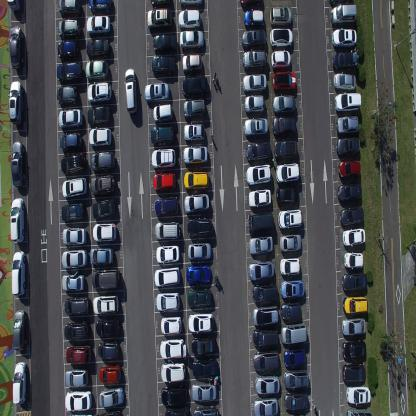car: (8, 79, 23, 127), (10, 195, 24, 244), (124, 66, 138, 114), (12, 361, 27, 405), (11, 249, 25, 296), (90, 172, 115, 198), (65, 388, 92, 412), (9, 24, 23, 70), (91, 268, 120, 290), (11, 139, 24, 188), (181, 75, 208, 98), (183, 192, 210, 215), (187, 311, 214, 334), (160, 384, 188, 406), (252, 349, 280, 371), (334, 92, 362, 114), (13, 308, 27, 351), (144, 80, 169, 104), (154, 194, 178, 219), (160, 360, 186, 383), (281, 322, 307, 345), (248, 211, 274, 234), (330, 3, 356, 26), (339, 205, 365, 228), (61, 175, 87, 198), (245, 164, 272, 186), (159, 338, 187, 359), (275, 161, 299, 185), (272, 115, 297, 138), (99, 385, 124, 408), (186, 263, 212, 285), (154, 266, 180, 288), (277, 207, 303, 229), (254, 374, 280, 396), (341, 271, 367, 293), (92, 293, 118, 315), (183, 169, 210, 190), (252, 304, 279, 325), (61, 249, 88, 270), (283, 345, 307, 368), (61, 152, 85, 175), (183, 144, 208, 166), (271, 71, 296, 93), (246, 140, 271, 162), (249, 259, 274, 281), (337, 182, 362, 204), (86, 14, 111, 36), (87, 82, 112, 104), (91, 150, 116, 172), (56, 60, 81, 82), (64, 294, 89, 316), (150, 54, 176, 75), (283, 390, 309, 411), (241, 49, 267, 70), (154, 220, 181, 240), (331, 28, 358, 48), (182, 98, 206, 120), (342, 361, 366, 383), (86, 37, 110, 59), (85, 59, 109, 81), (98, 363, 122, 385), (147, 8, 172, 29), (179, 30, 204, 51), (151, 147, 176, 168), (187, 216, 212, 237), (155, 291, 180, 312), (272, 94, 297, 115), (273, 139, 298, 160), (64, 320, 89, 341), (192, 357, 218, 377), (283, 369, 309, 389), (252, 282, 278, 302), (341, 339, 367, 359), (65, 344, 91, 364), (269, 5, 292, 27), (92, 197, 115, 219), (153, 32, 177, 53), (269, 27, 293, 48), (244, 116, 268, 137), (332, 50, 356, 71), (92, 221, 116, 242), (150, 126, 175, 146), (155, 244, 180, 264), (191, 336, 216, 356), (240, 28, 265, 48), (191, 382, 217, 401), (279, 280, 305, 299), (242, 73, 268, 92), (342, 296, 368, 315), (252, 328, 279, 346), (178, 8, 200, 30), (57, 38, 79, 60), (279, 232, 302, 253), (61, 201, 84, 222), (336, 137, 360, 157), (342, 228, 366, 248), (342, 316, 366, 336), (187, 242, 212, 261), (187, 288, 212, 307), (89, 246, 114, 265), (58, 109, 83, 128), (95, 318, 120, 337), (253, 397, 279, 415), (183, 121, 205, 142), (160, 314, 182, 335), (336, 115, 358, 136), (153, 172, 176, 192), (248, 188, 271, 208), (332, 72, 355, 92), (87, 106, 110, 126), (98, 340, 121, 360), (65, 368, 88, 388), (337, 160, 361, 179), (347, 385, 371, 404), (88, 128, 112, 147), (57, 19, 81, 38), (62, 226, 86, 245), (270, 49, 291, 70), (152, 101, 172, 123), (279, 256, 301, 276), (58, 0, 81, 19), (249, 236, 273, 254), (61, 273, 85, 291), (243, 8, 264, 28), (56, 85, 77, 105), (276, 186, 298, 205), (244, 94, 266, 113), (59, 132, 82, 150), (182, 52, 202, 72), (344, 250, 364, 270), (281, 301, 301, 320), (89, 0, 112, 13), (193, 404, 220, 415), (165, 406, 190, 416), (346, 408, 374, 416), (239, 0, 260, 10), (179, 0, 203, 8), (6, 0, 21, 12), (150, 0, 171, 8), (328, 0, 352, 6)
